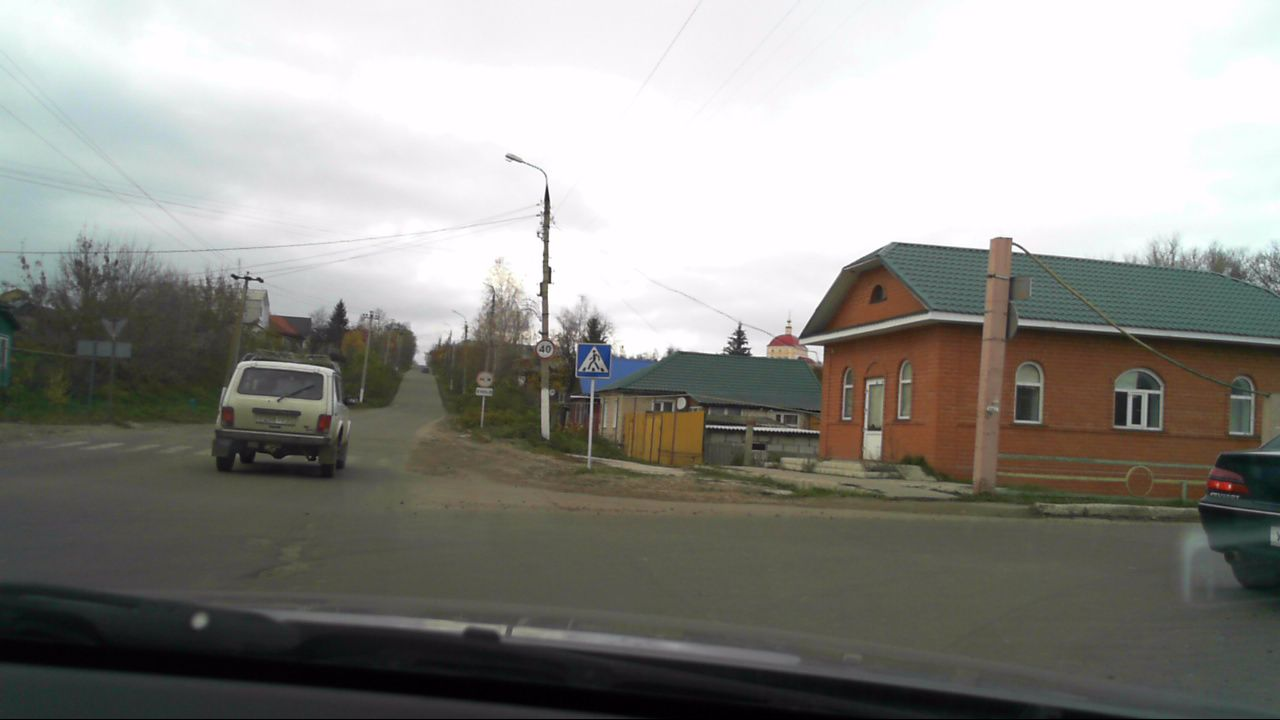speed_warning_40: (535, 338, 556, 360)
